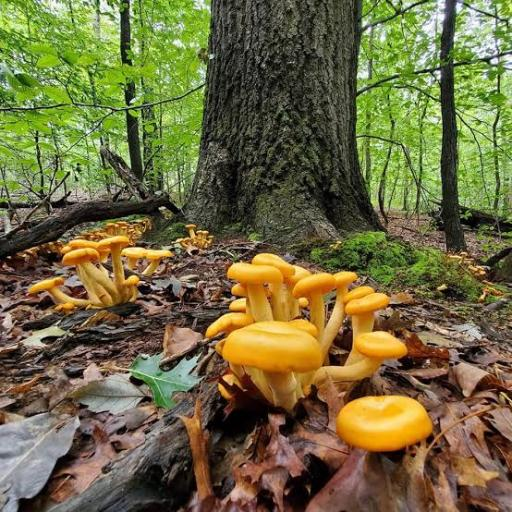Jack O Lantern Mushroom: (223, 321, 314, 414), (327, 394, 437, 466), (317, 329, 395, 398), (225, 260, 292, 324), (64, 244, 121, 311), (254, 246, 299, 317), (343, 283, 383, 357), (289, 267, 335, 331), (321, 268, 356, 347), (29, 275, 88, 315), (176, 222, 220, 252), (101, 231, 129, 278), (141, 240, 175, 276), (122, 268, 142, 299), (121, 242, 143, 268)
